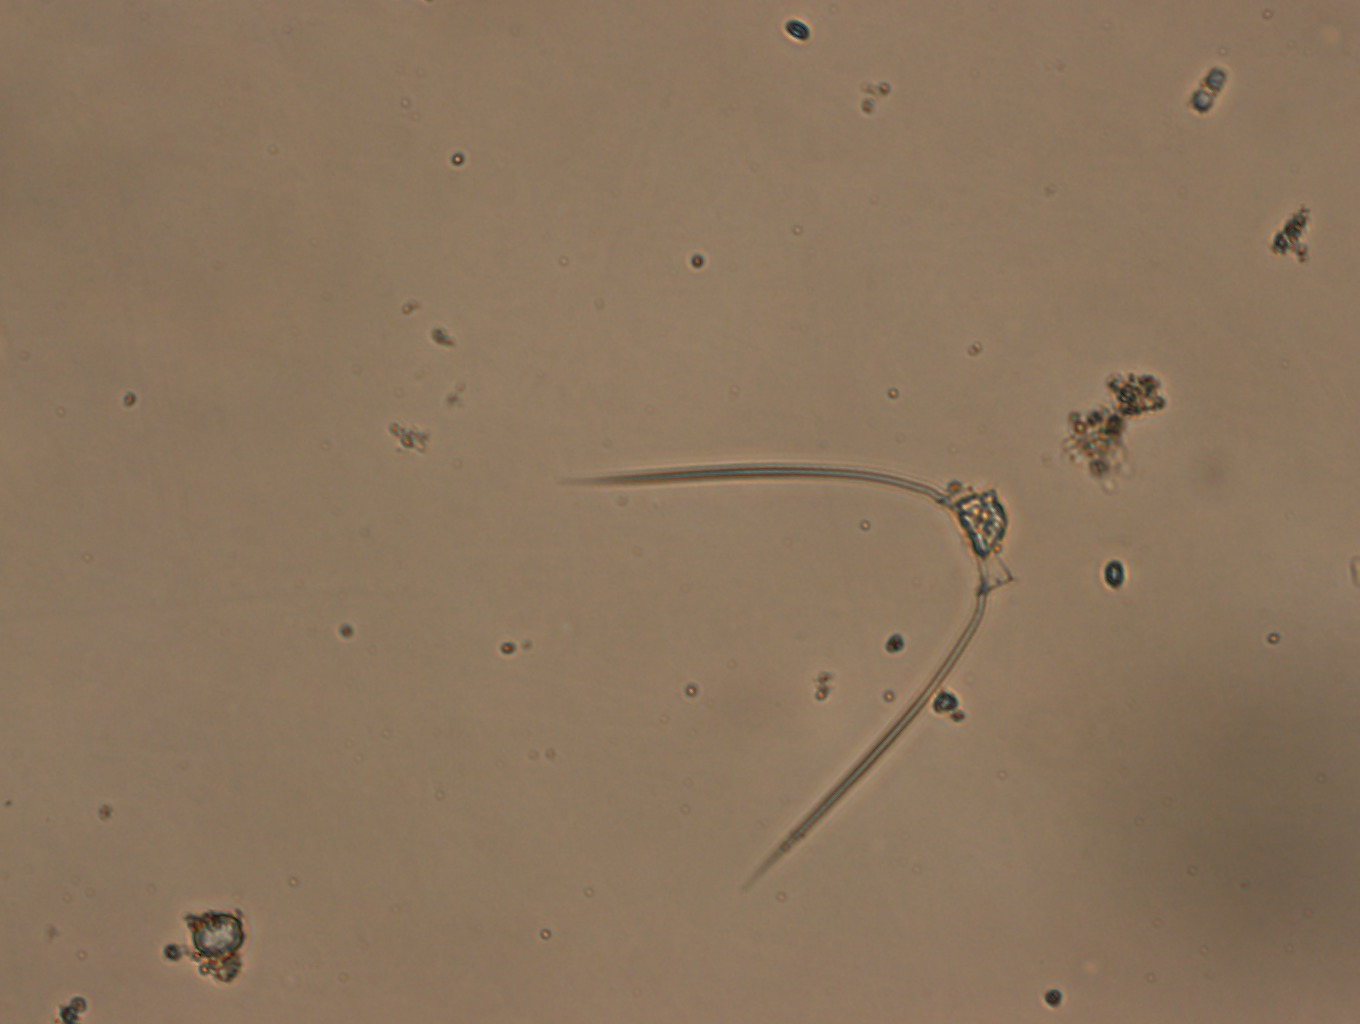chaetoceros: (559, 466, 1012, 894)
